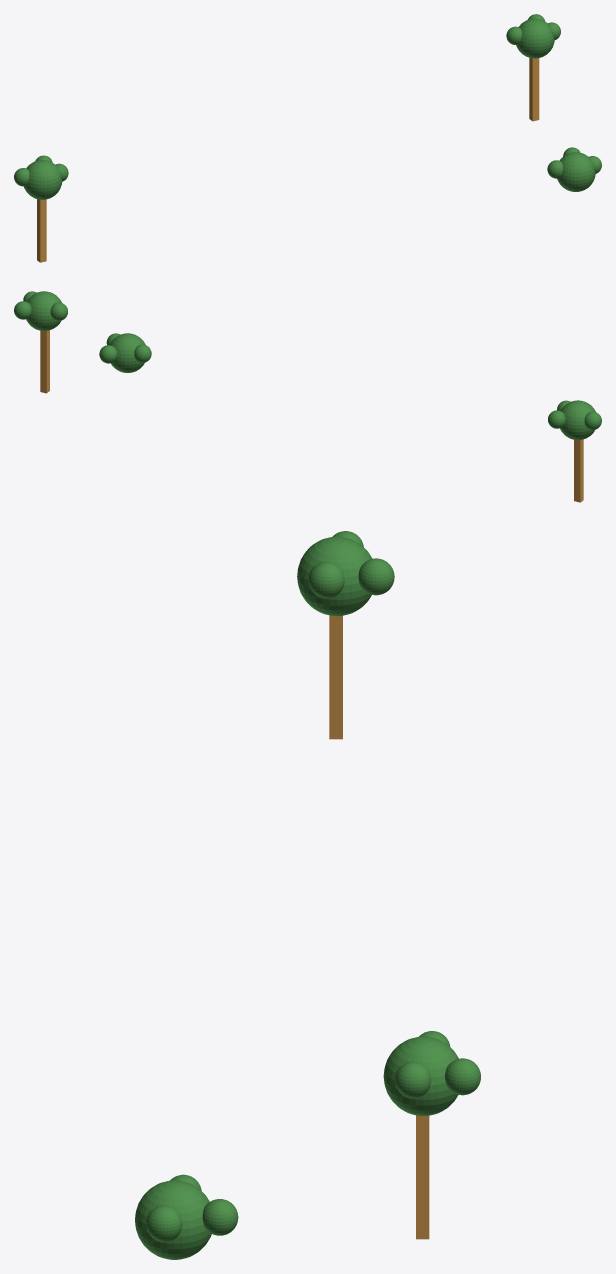
3 renders of one model, top to bottom at view 1: azimuth 30°, elevation 25°; view 2: azimuth 150°, elevation 25°; view 3: azimuth 270°, elevation 25°, orthographic. The views are drawn at different scales.
Parts seen in each view (by area): view 1: Tree, Tree.001, Bush; view 2: Tree, Tree.001, Bush; view 3: Tree, Tree.001, Bush.
Boxes of the visible parts, x1,y1,x2,y2 form: Tree: [506, 14, 560, 121]; Tree.001: [14, 155, 68, 262]; Bush: [547, 147, 601, 191]; Tree: [14, 291, 67, 393]; Tree.001: [548, 400, 601, 502]; Bush: [99, 333, 151, 372]; Tree: [383, 1031, 480, 1239]; Tree.001: [297, 531, 394, 739]; Bush: [135, 1174, 238, 1259].
Size of what is drawn, in the model's own units: 2364 by 634 by 478.
